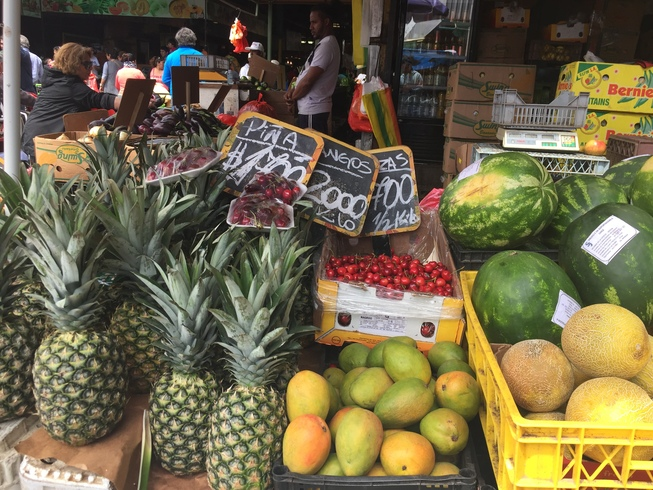precio: (214, 106, 323, 220), (301, 121, 384, 244), (353, 141, 427, 249)
